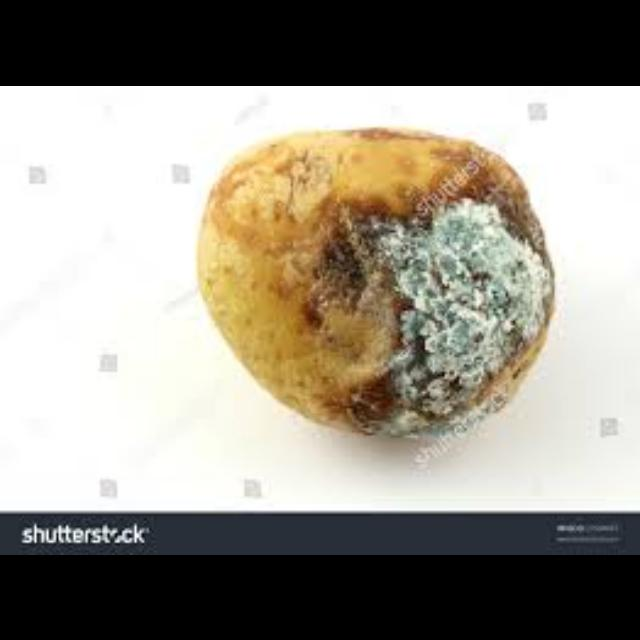Damaged potato: (196, 124, 560, 448)
